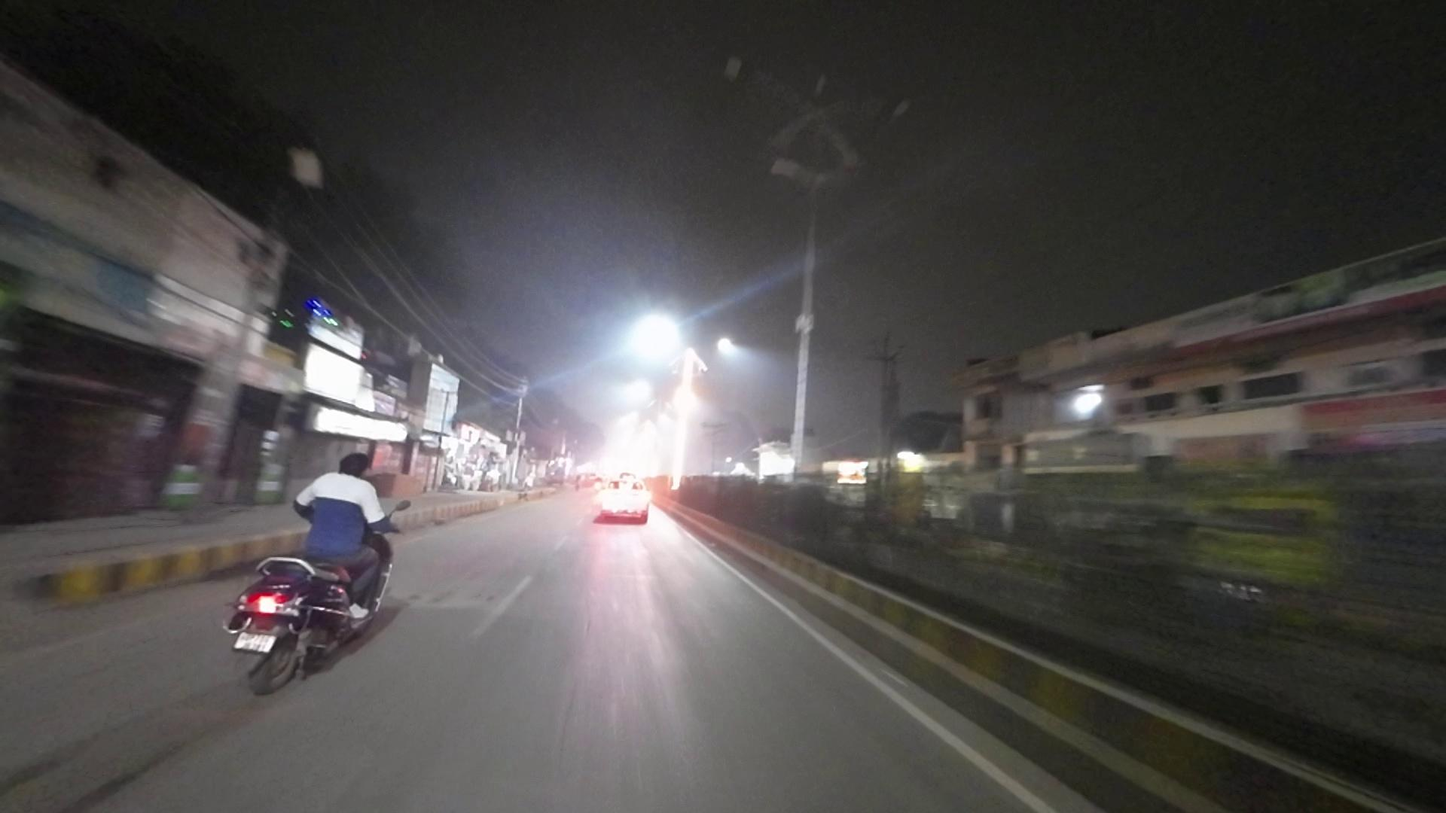streetlight: (721, 50, 809, 109), (829, 92, 914, 126)
